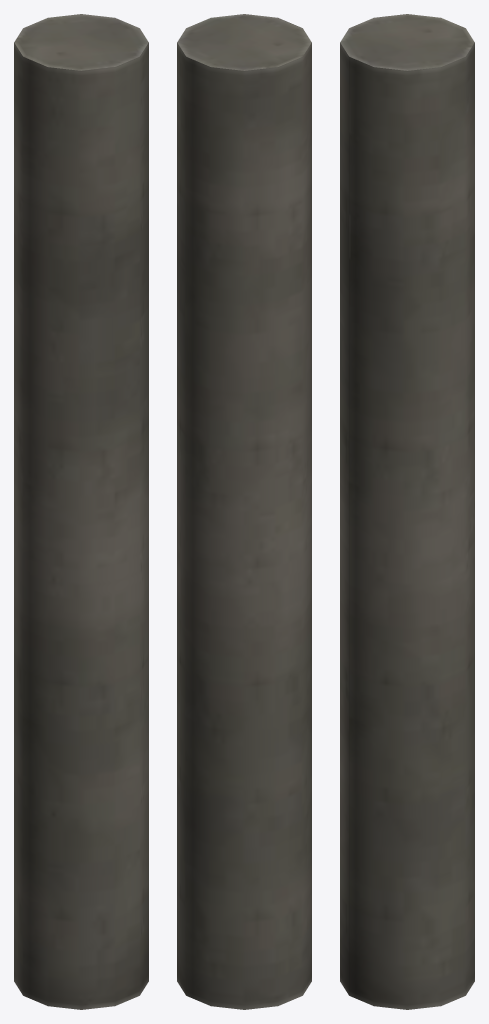
The model's file is pier_pillar.glb.
The picture shows the model from 3 angles, left to right: view 1: azimuth 90°, elevation 25°; view 2: azimuth 210°, elevation 25°; view 3: azimuth 270°, elevation 25°; orthographic projection.
Parts seen in each view (by area): view 1: te_pier_pillar; view 2: te_pier_pillar; view 3: te_pier_pillar.
Part boxes in pixels (bbox=[...]): te_pier_pillar: bbox=[14, 14, 148, 1009]; te_pier_pillar: bbox=[177, 14, 311, 1009]; te_pier_pillar: bbox=[340, 14, 474, 1009].
Bounding box in the file's own units: 0.13 × 1 × 0.13.
Materials: 1 (1 with a texture image).
